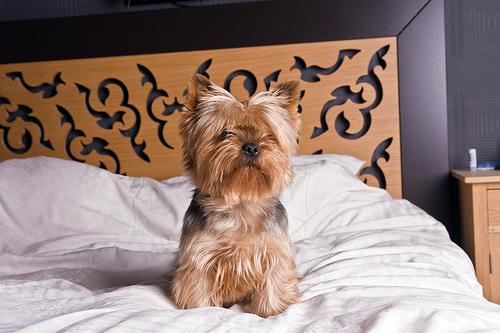dog-yorkshire_terrier: (187, 73, 297, 190)
